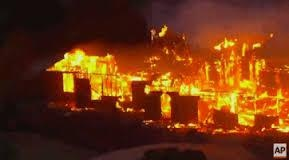fire: (38, 15, 289, 138)
